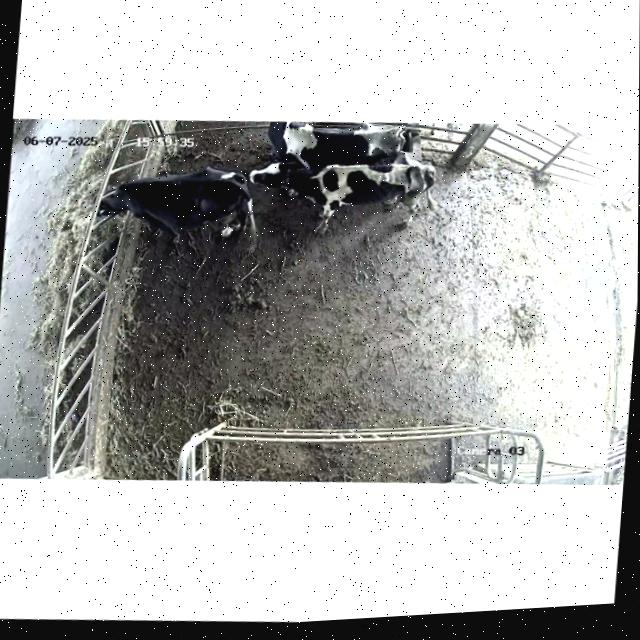stand: (249, 150, 437, 233), (267, 120, 405, 167)
